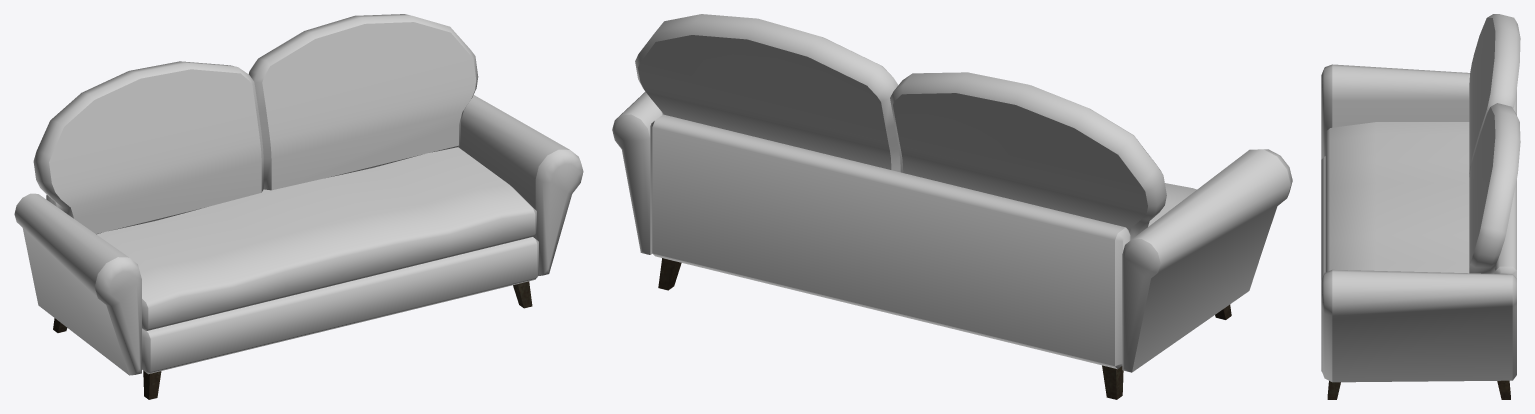
File: sofa_2_1.fbx
The picture shows the model from 3 angles, left to right: view 1: azimuth 30°, elevation 25°; view 2: azimuth 150°, elevation 25°; view 3: azimuth 270°, elevation 25°; orthographic projection. The views are drawn at different scales.
Visible parts, largest first — view 1: sofa_2_1; view 2: sofa_2_1; view 3: sofa_2_1.
Boxes of the visible parts, left/top/right/bottom form: sofa_2_1: left=14, top=14, right=583, bottom=399; sofa_2_1: left=612, top=14, right=1292, bottom=399; sofa_2_1: left=1321, top=14, right=1520, bottom=399.
Size of the model in its own units: 2.47 by 0.9157 by 1.17.
